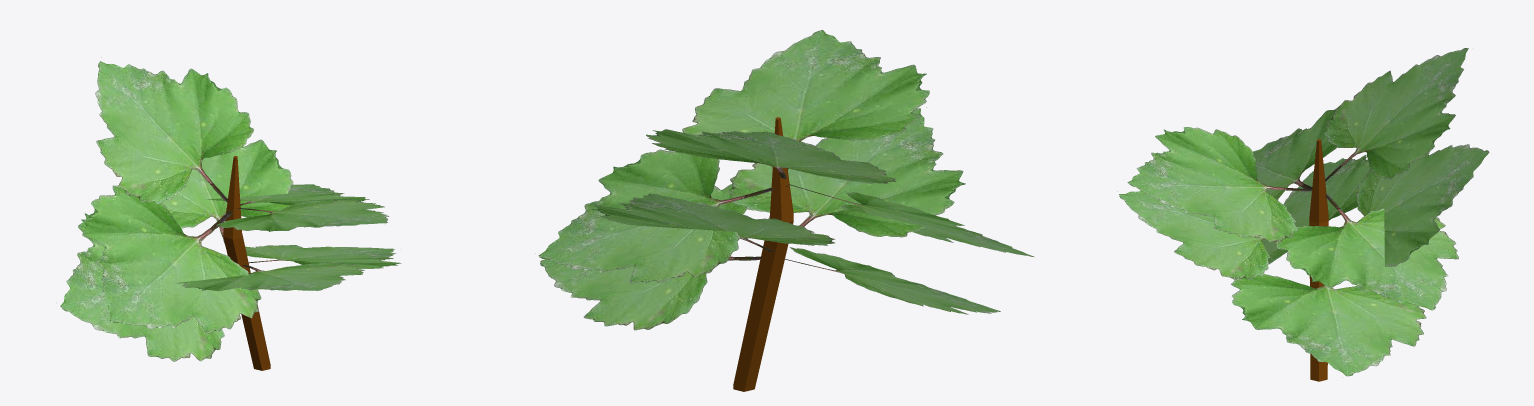
The model's file is weed plant.fbx.
3 renders of one model, left to right at view 1: azimuth 30°, elevation 25°; view 2: azimuth 150°, elevation 25°; view 3: azimuth 270°, elevation 25°, orthographic. The views are drawn at different scales.
Visible parts, largest first — view 1: pCylinder2; view 2: pCylinder2; view 3: pCylinder2.
Part boxes in pixels (<box>): pCylinder2: <box>60,57,401,370</box>; pCylinder2: <box>535,30,1034,391</box>; pCylinder2: <box>1117,48,1489,381</box>.
Size of the model in its own units: 28.31 by 19.45 by 25.65.
